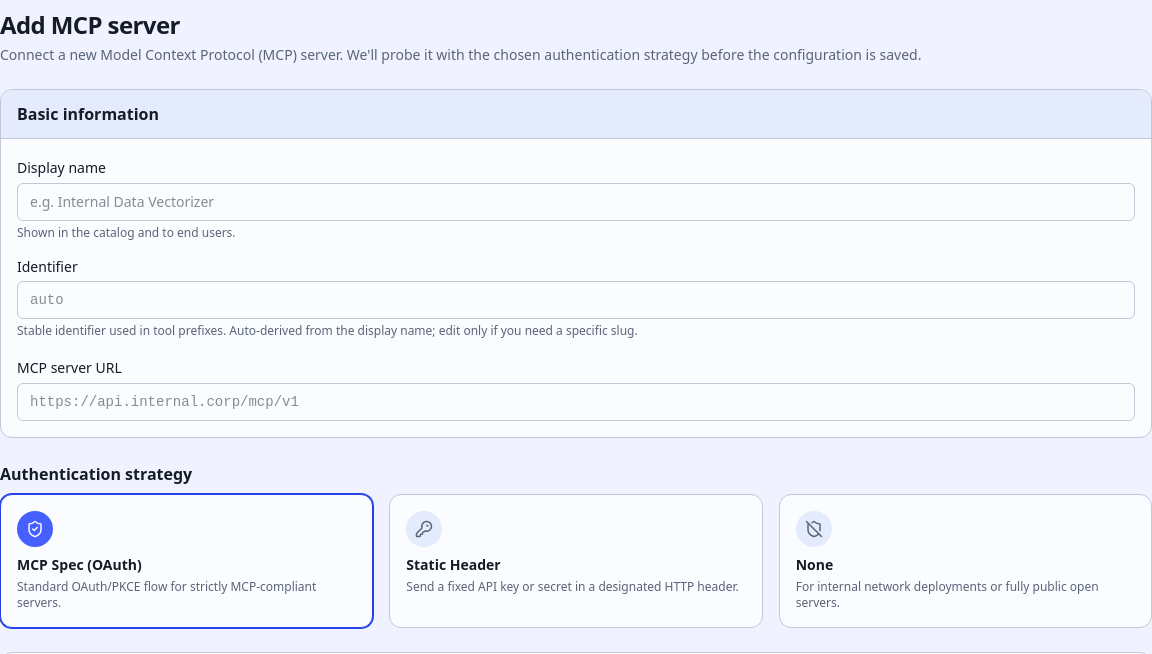
Test case: McpServerNew › switching to static_header reveals the header fields
Click the radio button with test id "strategy-static-header" at (424, 529), box top-left (389, 494), bottom-right (763, 628)
(page scrolled)
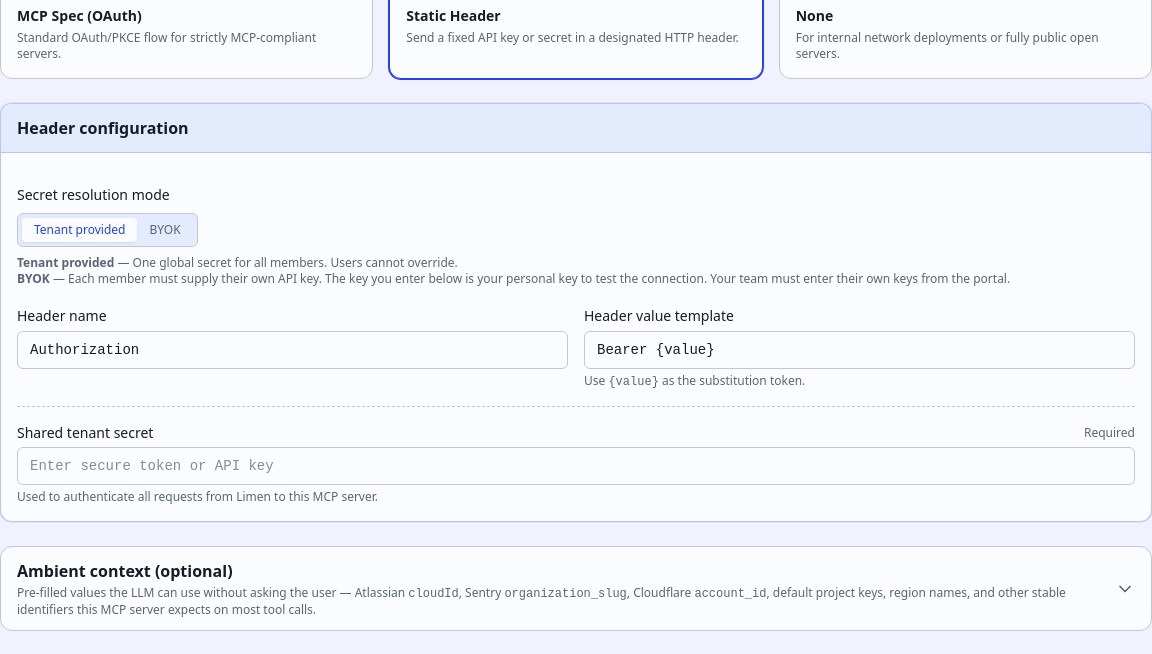
Check: the password field with test id "field-api-key" is shown, box top-left (17, 447), bottom-right (1135, 485)
